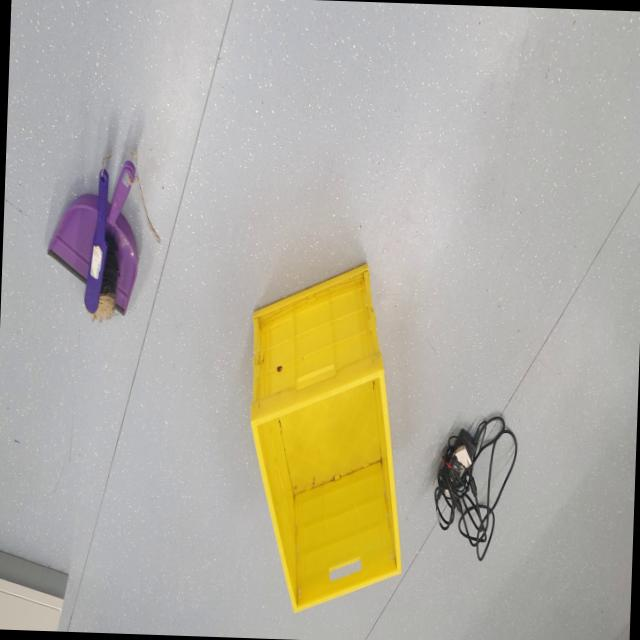box: (236, 248, 415, 631)
